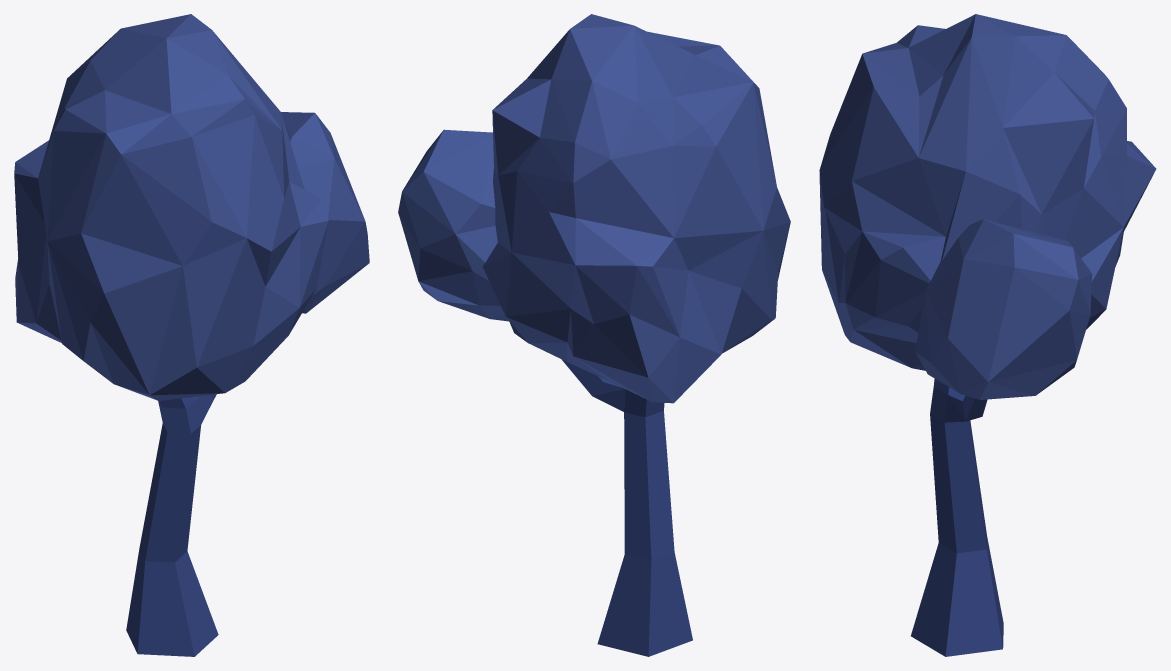
Rendered from SM_Prop_Tree_Round_02.fbx.
The picture shows the model from 3 angles, left to right: view 1: azimuth 30°, elevation 25°; view 2: azimuth 150°, elevation 25°; view 3: azimuth 270°, elevation 25°; orthographic projection. The views are drawn at different scales.
Visible parts, largest first — view 1: SM_Prop_Tree_Round_02; view 2: SM_Prop_Tree_Round_02; view 3: SM_Prop_Tree_Round_02.
Boxes of the visible parts, bbox=[...] form: SM_Prop_Tree_Round_02: bbox=[14, 14, 369, 656]; SM_Prop_Tree_Round_02: bbox=[398, 14, 790, 656]; SM_Prop_Tree_Round_02: bbox=[819, 14, 1156, 656].
Size of the model in its own units: 182 by 322 by 154.
